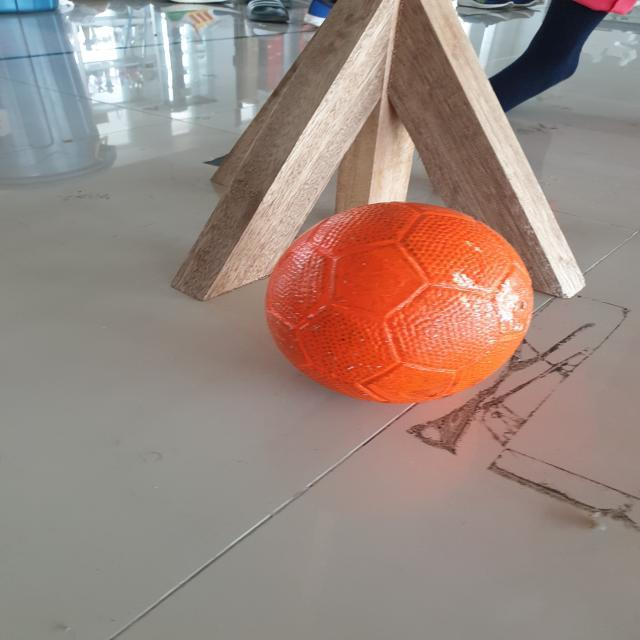bola: (264, 193, 542, 411)
